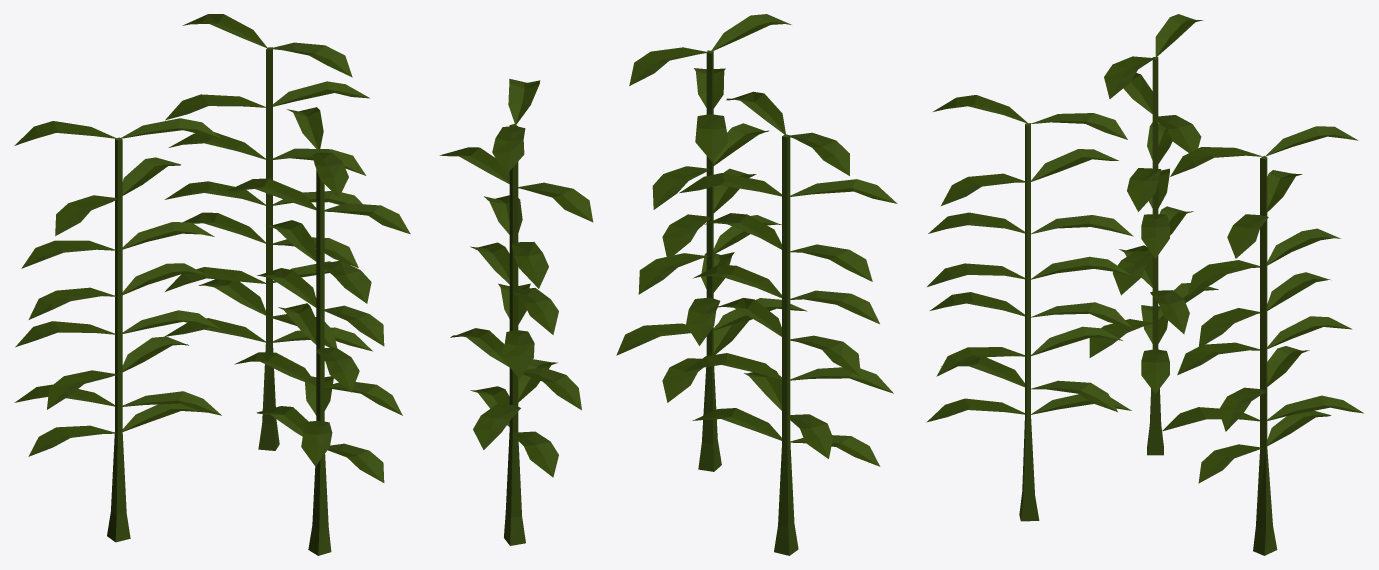
The model's file is seaweed.gltf.
3 renders of one model, left to right at view 1: azimuth 30°, elevation 25°; view 2: azimuth 150°, elevation 25°; view 3: azimuth 270°, elevation 25°, orthographic. The views are drawn at different scales.
Bounding box in the file's own units: 305 × 314 × 306.
1 material, 1 textured.
